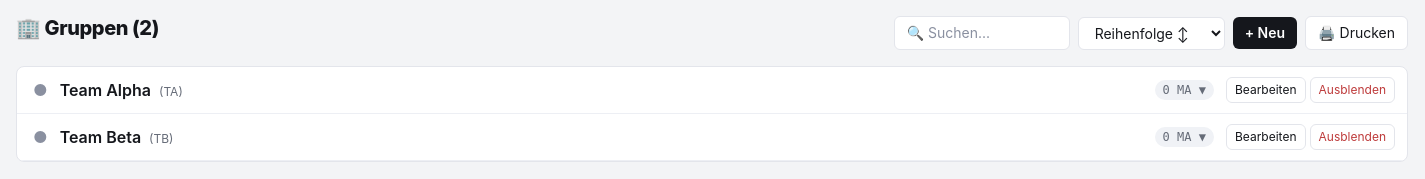
Test: Groups page › filters groups by search input
Check: the text "Team Alpha" is shown, box [60,80,151,100]
In the field with placeholder "🔍 Suchen...": (982, 33) [894,16,1070,50], type "Alpha"
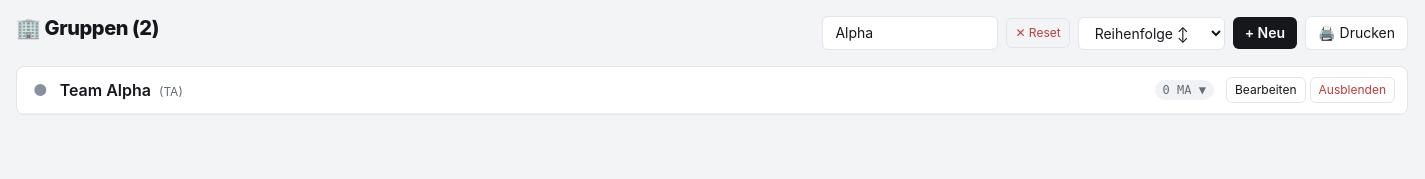
Check: the text "Team Alpha" is shown, box [60,80,151,100]
Check: the text "Team Beta" is gone
